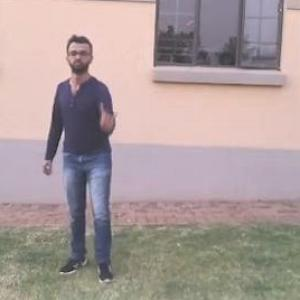takeoff-hand: (97, 94, 126, 135)
